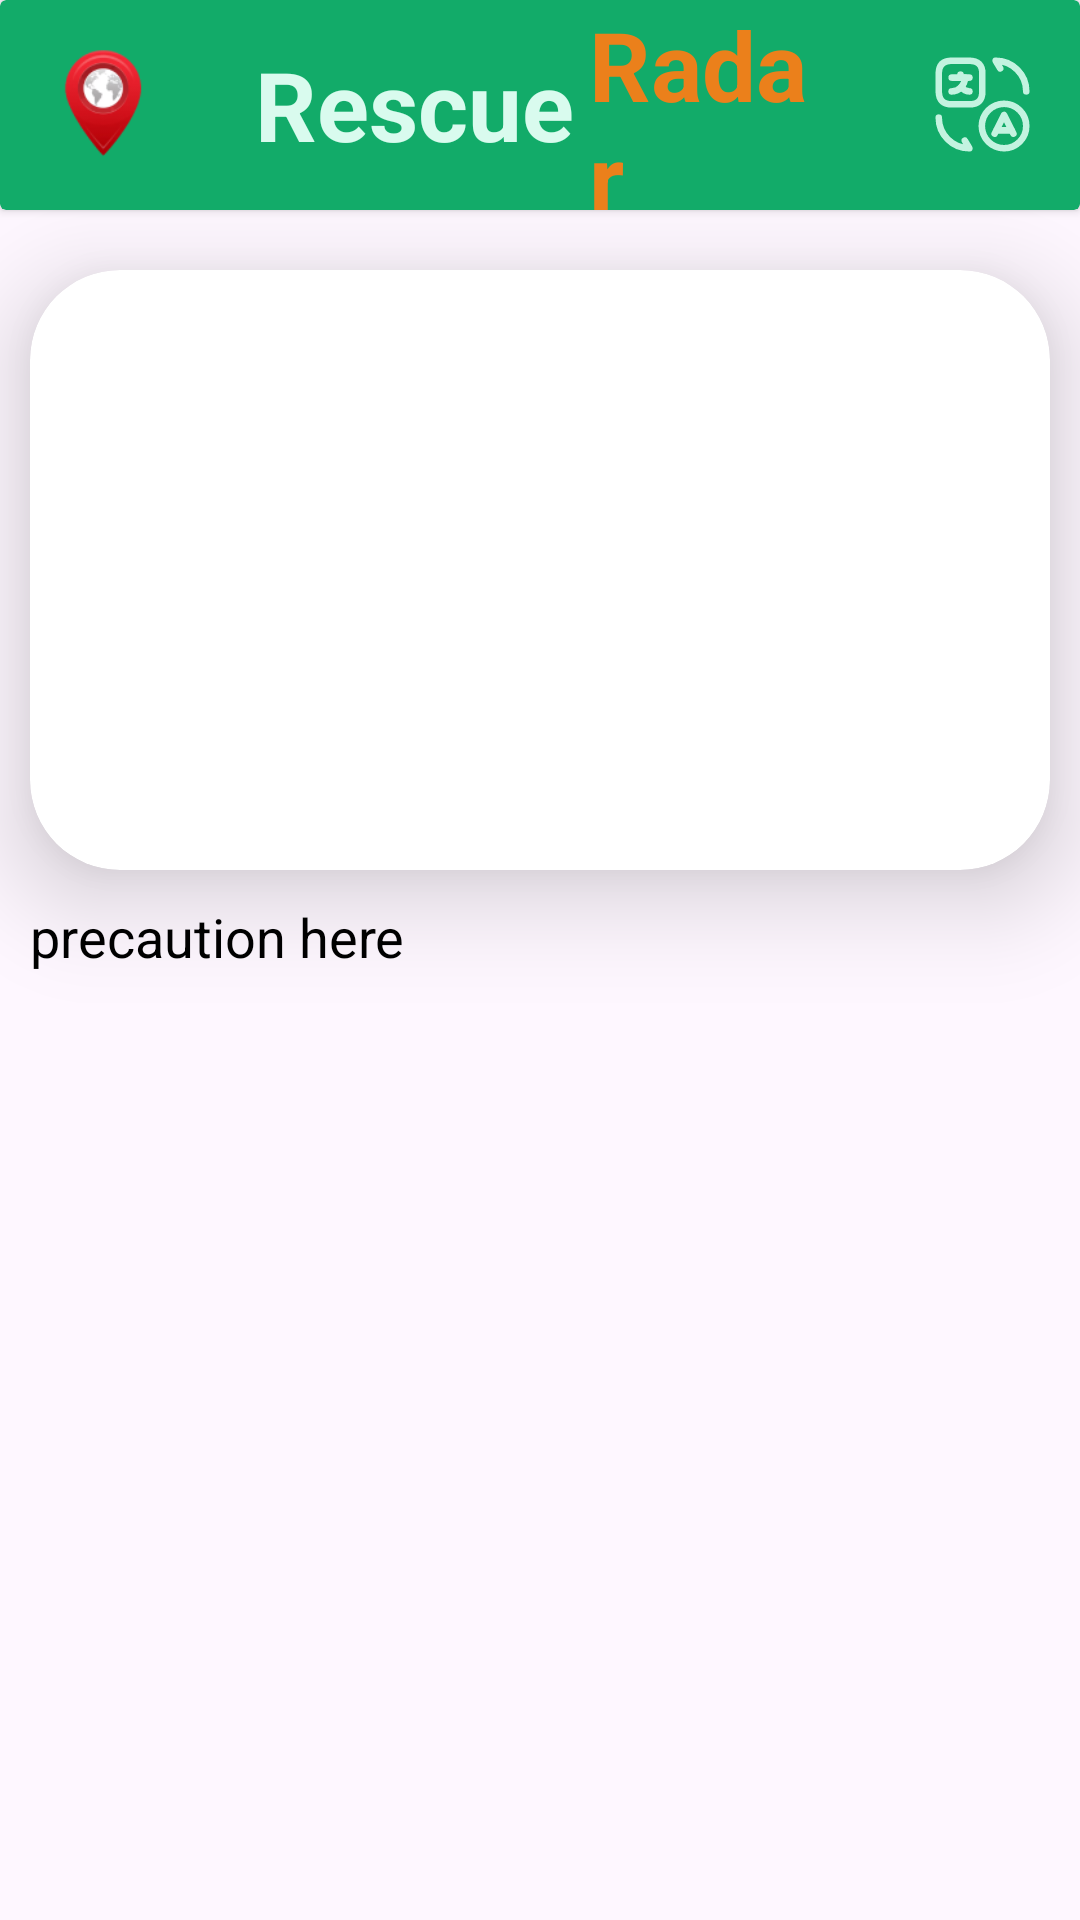

Screen size 1080 × 1920. Icon name, then its center in pixels as (x=x, y=y):
locimage: (x=103, y=103)
translate: (x=982, y=104)
